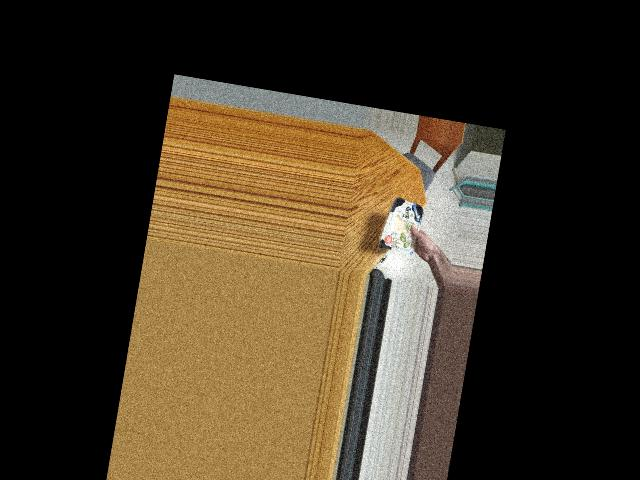cheese: (384, 197, 423, 251)
